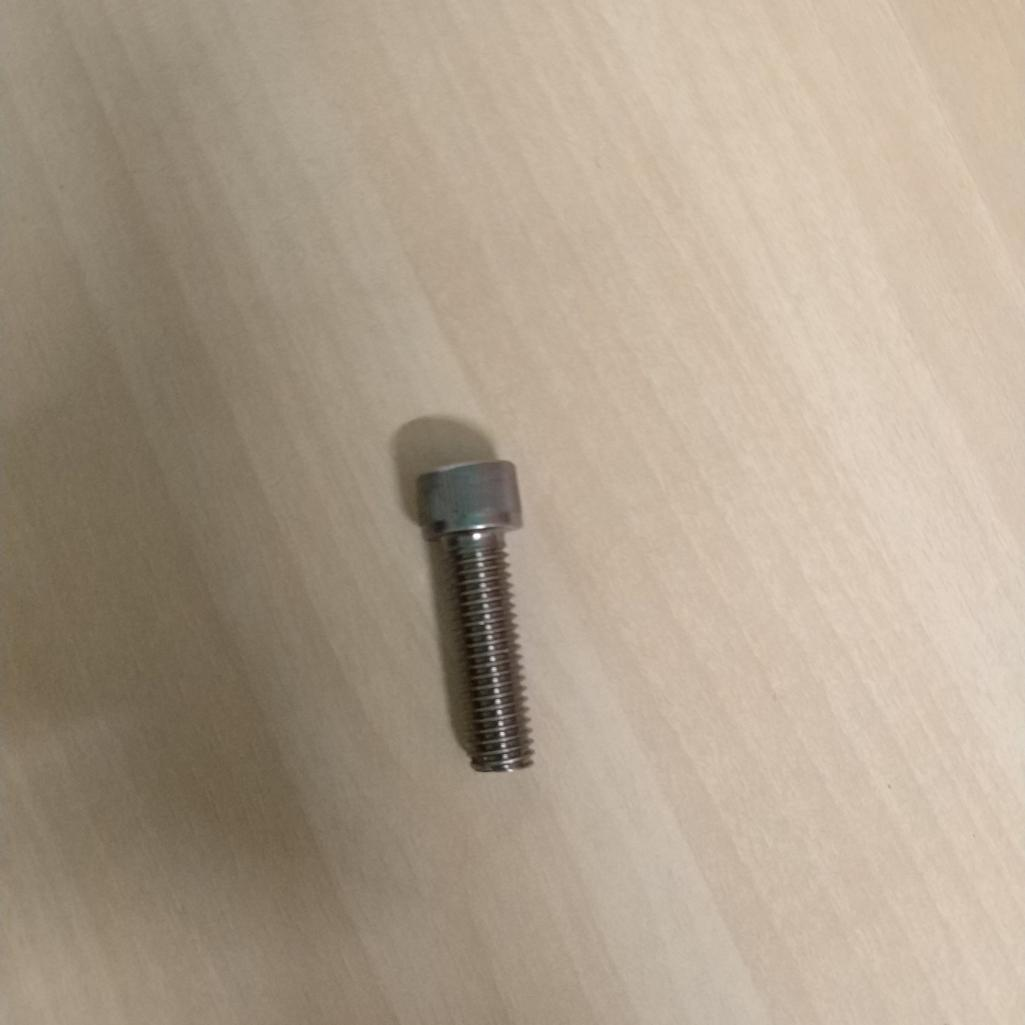screwtype1silver: (410, 448, 562, 798)
